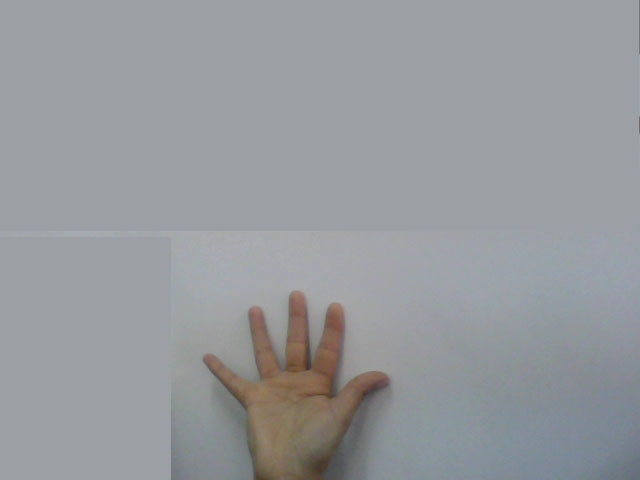hand: (192, 280, 400, 460)
